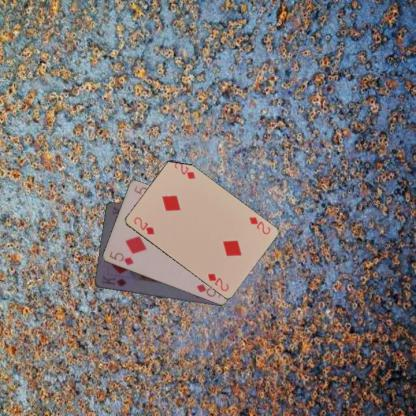2d: (130, 214, 156, 236), (246, 214, 272, 236)
5d: (106, 248, 135, 266)
Kd: (98, 274, 127, 288)
